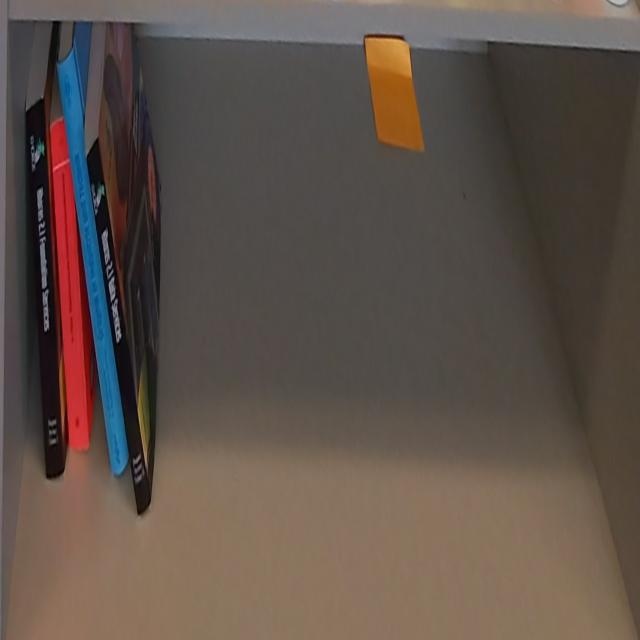Book Spine: (57, 48, 129, 479), (85, 139, 151, 518), (24, 96, 64, 480), (50, 121, 89, 449)
